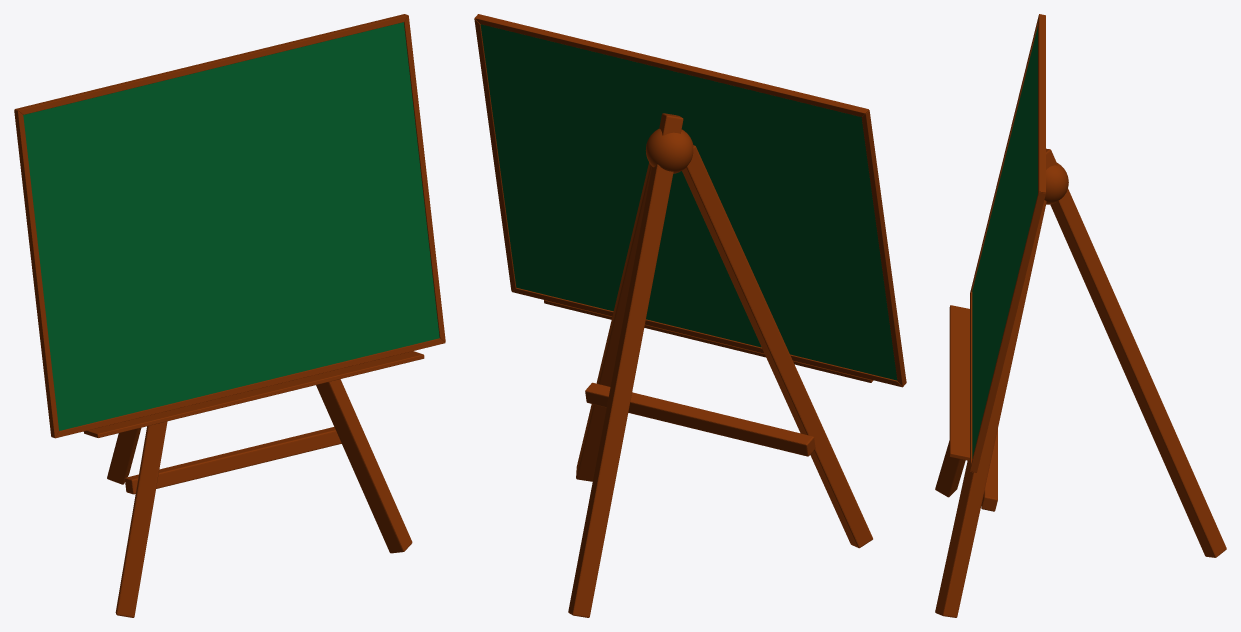
File: board2.fbx
3 views of the same model, side by side, from view 1: azimuth 30°, elevation 25°; view 2: azimuth 150°, elevation 25°; view 3: azimuth 270°, elevation 25° (orthographic). The views are drawn at different scales.
Visible parts, largest first — view 1: board_1, board; view 2: board; view 3: board, board_1.
Boxes of the visible parts, x1,y1,x2,y2 form: board_1: [23, 22, 439, 430]; board: [14, 14, 445, 617]; board: [474, 14, 906, 617]; board: [935, 14, 1226, 617]; board_1: [972, 26, 1037, 458].
Size of the model in its own units: 1.22 by 1.45 by 0.8422.
